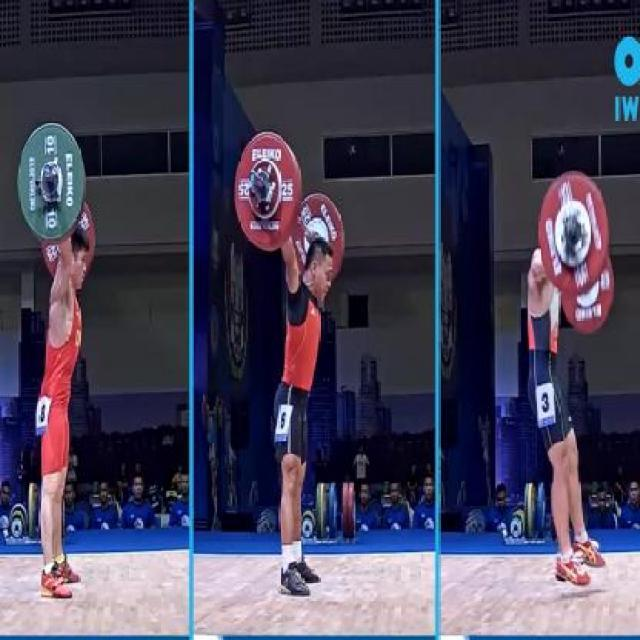Barbell: (562, 210, 582, 238), (40, 160, 54, 182), (246, 169, 260, 188)
